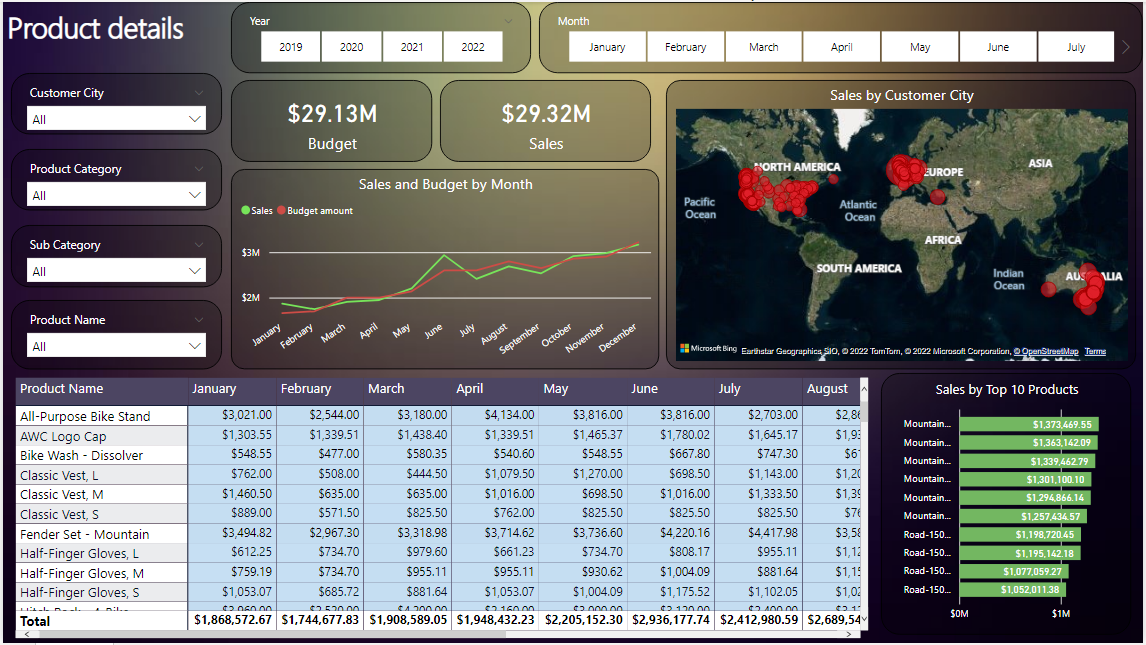

The dashboard page shown, as its layout file describes it:
{"tool":"powerbi","page":{"name":"Page 3","canvas":[1280,720],"ordinal":2},"visuals":[{"type":"textbox","box":[0,0,256.1,62.9],"z":4000},{"type":"slicer","fields":{"Values":["DIM calender.Year"]},"box":[256.1,0,337,79.8],"z":4001},{"type":"slicer","fields":{"Values":["DIM calender.Month"]},"box":[601.6,0,678.4,79.8],"z":4002},{"type":"map","fields":{"Size":["Fact Internetsales (2).Sales"],"Category":["DIM customers.Customer City"]},"box":[744.7,87.6,527.9,324.6],"z":4003},{"type":"card","fields":{"Values":["Fact Internetsales (2).Sales"]},"box":[490.9,87.6,237,92.1],"z":4004},{"type":"card","fields":{"Values":["Sum(Budget (2).Budget)"]},"box":[256.1,87.6,225.8,92.1],"z":4005},{"type":"slicer","fields":{"Values":["DIM customers.Customer City"]},"box":[9,79.8,237,68.5],"z":4006},{"type":"slicer","fields":{"Values":["DIM product.Product Category"]},"box":[9,165.1,237,68.5],"z":4007},{"type":"slicer","fields":{"Values":["DIM product.Sub Category"]},"box":[9,250.5,237,69.6],"z":4008},{"type":"slicer","fields":{"Values":["DIM product.Product Name"]},"box":[9,334.7,237,77.5],"z":4009},{"type":"pivotTable","fields":{"Values":["Fact Internetsales (2).Sales"],"Rows":["DIM product.Product Name"],"Columns":["DIM calender.Month"]},"box":[9,416.4,967.7,303.3],"z":4010},{"type":"lineChart","title":"Sales and Budget by Month","fields":{"Category":["DIM calender.Month"],"Y":["Fact Internetsales (2).Sales (2)","Budget (2).Budget amount 1"]},"box":[256.1,187.6,480.7,224.6],"z":4011},{"type":"barChart","title":"Sales by Top 10 Products","fields":{"Y":["Fact Internetsales (2).Sales"],"Category":["DIM product.Product Name"]},"box":[985.7,416.4,281.4,294.3],"z":4012}]}

Visuals, with their boxes in screenshot pixels (x1, y1, x2, y2), scaled from the page's 1280x720 canvas onto the 1146x645 screenshot:
textbox: left=0, top=0, right=229, bottom=56
slicer - DIM calender.Year: left=229, top=0, right=531, bottom=71
slicer - DIM calender.Month: left=539, top=0, right=1145, bottom=71
map - Fact Internetsales (2).Sales x DIM customers.Customer City: left=667, top=78, right=1139, bottom=369
card - Fact Internetsales (2).Sales: left=440, top=78, right=652, bottom=161
card - Sum(Budget (2).Budget): left=229, top=78, right=431, bottom=161
slicer - DIM customers.Customer City: left=8, top=71, right=220, bottom=133
slicer - DIM product.Product Category: left=8, top=148, right=220, bottom=209
slicer - DIM product.Sub Category: left=8, top=224, right=220, bottom=287
slicer - DIM product.Product Name: left=8, top=300, right=220, bottom=369
pivotTable - Fact Internetsales (2).Sales x DIM product.Product Name: left=8, top=373, right=874, bottom=644
"Sales and Budget by Month" lineChart: left=229, top=168, right=660, bottom=369
"Sales by Top 10 Products" barChart: left=883, top=373, right=1134, bottom=637
